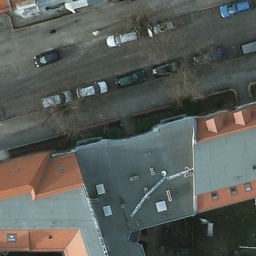car: (195, 45, 227, 65), (219, 0, 252, 19), (74, 81, 108, 99), (148, 17, 177, 36), (153, 60, 187, 75), (115, 69, 146, 85), (107, 30, 138, 45), (43, 90, 72, 106), (35, 50, 62, 66)
